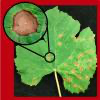grape leaf black rot: (55, 8, 97, 94)
